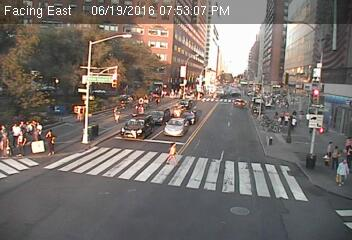neg: (211, 56, 227, 76), (237, 70, 246, 82), (221, 95, 229, 106)
pos: (40, 124, 65, 158), (165, 139, 186, 166), (110, 105, 125, 125)
